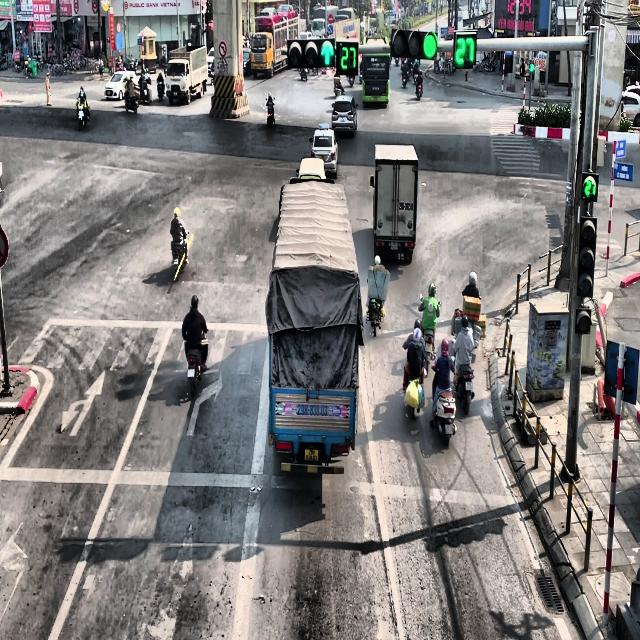lisence_plate: (295, 404, 329, 416), (303, 446, 320, 464), (400, 201, 416, 213), (444, 422, 454, 435), (390, 241, 400, 252), (187, 366, 195, 378), (372, 84, 382, 92), (339, 117, 346, 122), (374, 96, 379, 102)
